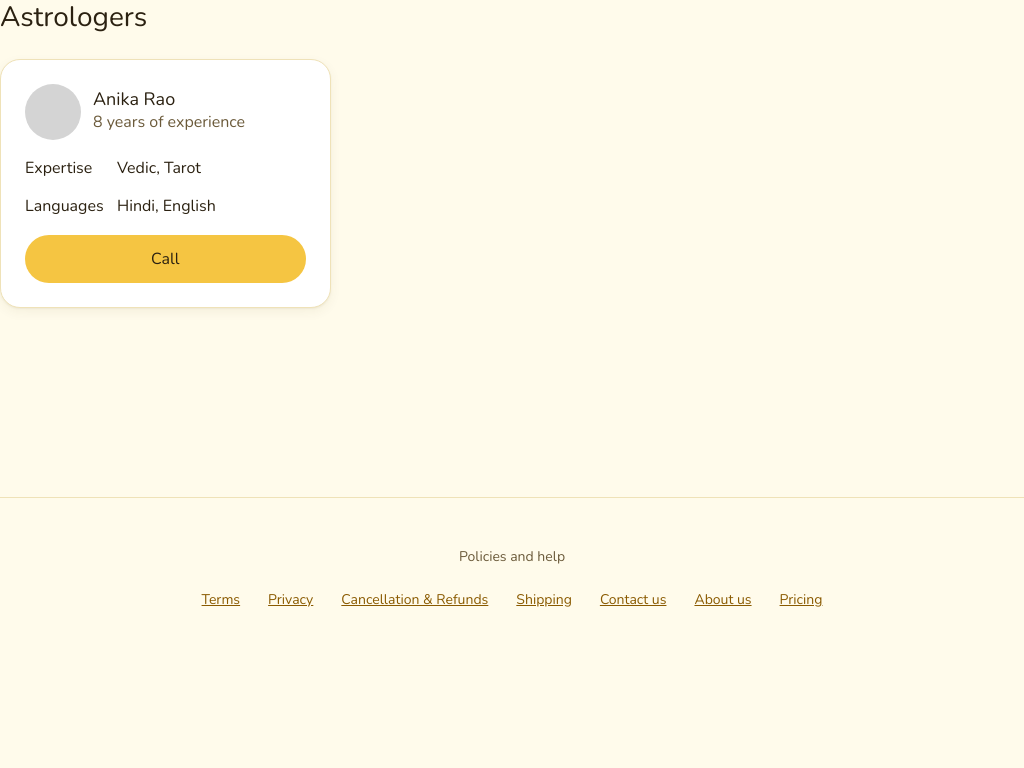
Test: HomePage › explains the full Settings-backed pack price when no Subscription credits remain
The width and height of the screenshot is (1024, 768).
Click the button "Call". click: (165, 259)
box: 25,235 -> 306,283
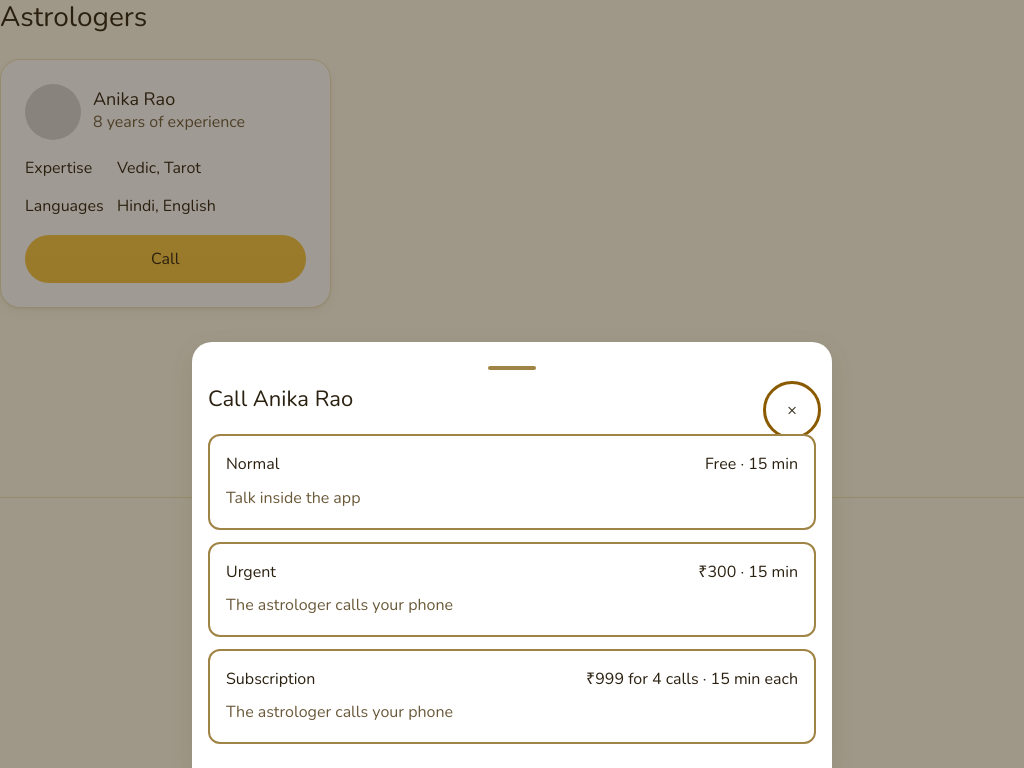
Click the button "Subscription". click: (271, 679)
box: 208,649 -> 816,744
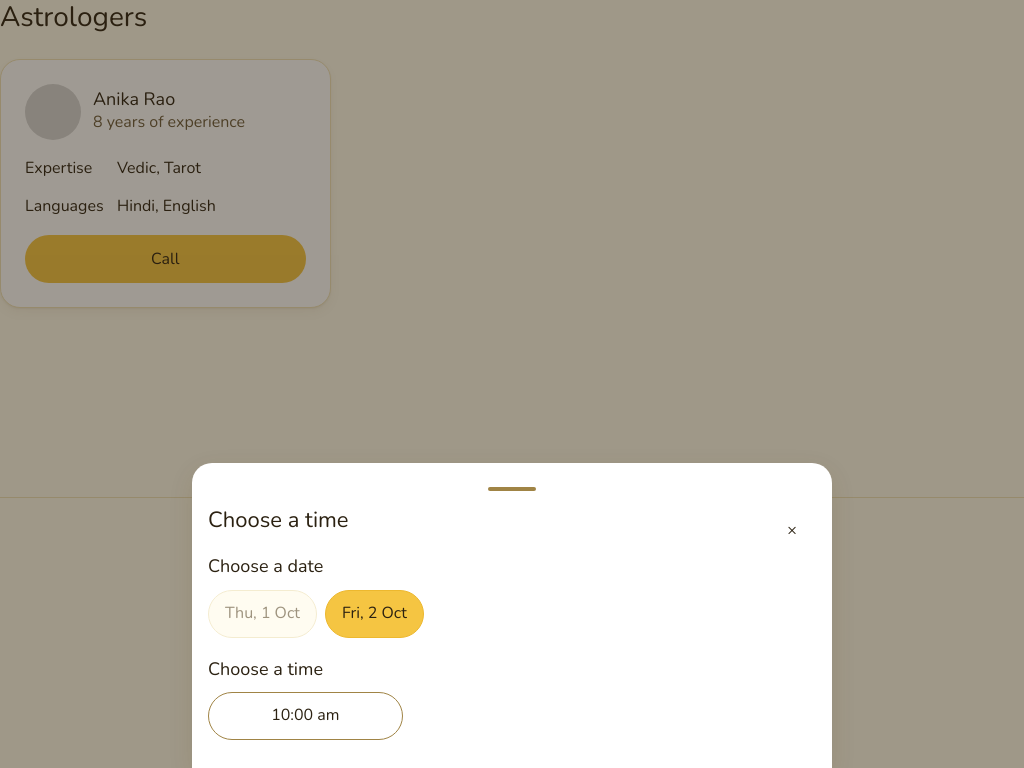
Click the button "10:00 am". click: (305, 716)
box: 208,692 -> 403,740
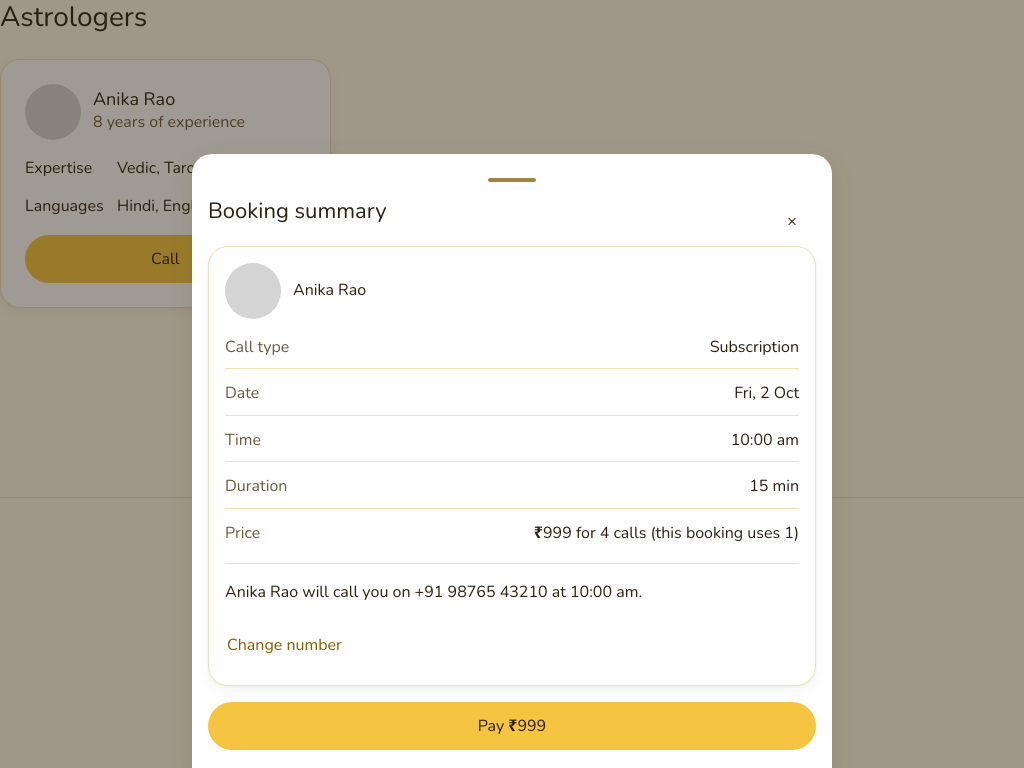
Now the text "₹999 for 4 calls (this booking uses 1)" is shown, box 534,521 -> 799,547
